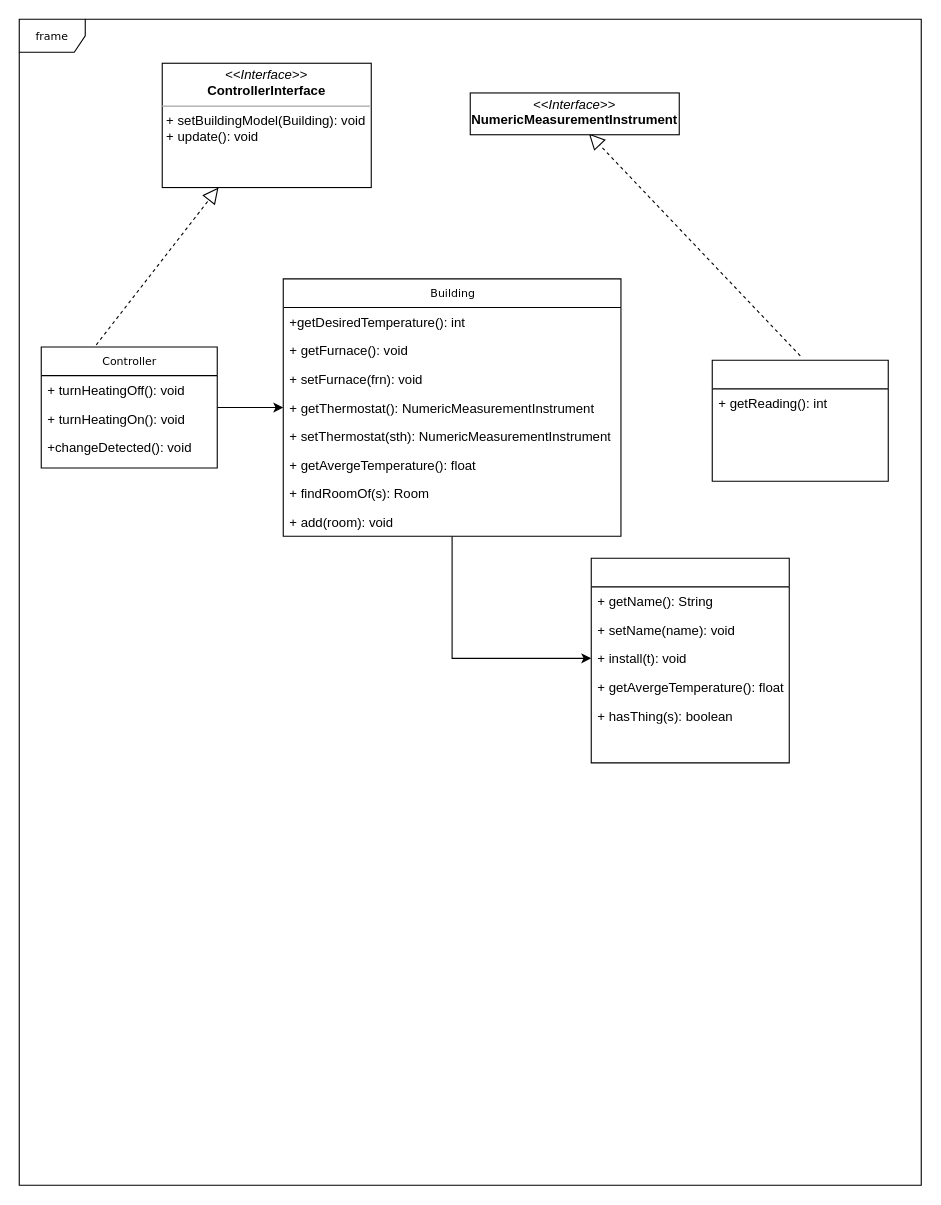
The diagram is 941 pixels wide and 1205 high, and some of its shapes have lost their labels. The box of each missing label's shape, as (x1, y1, x2, y2) in pixels:
QuickThermostat: (711, 359, 888, 481)
Room: (590, 557, 789, 763)
